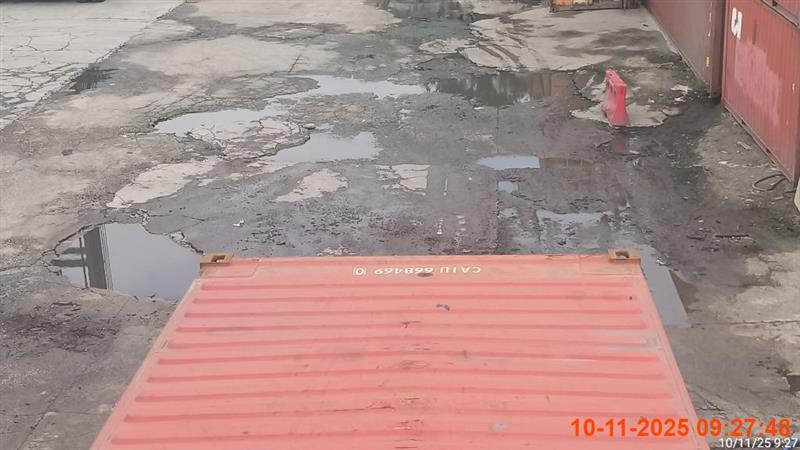hole: (92, 247, 708, 444), (601, 67, 630, 127)
